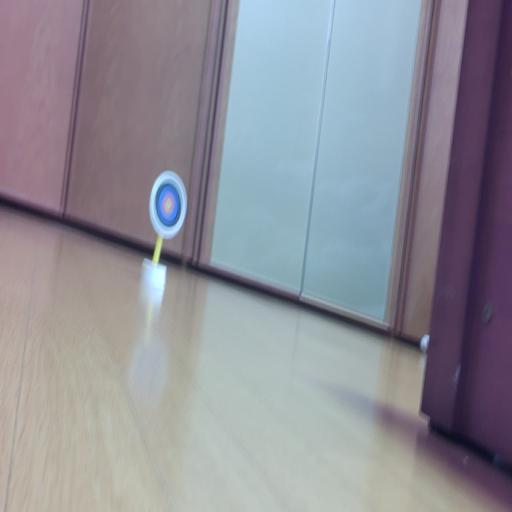target: (149, 171, 187, 238)
